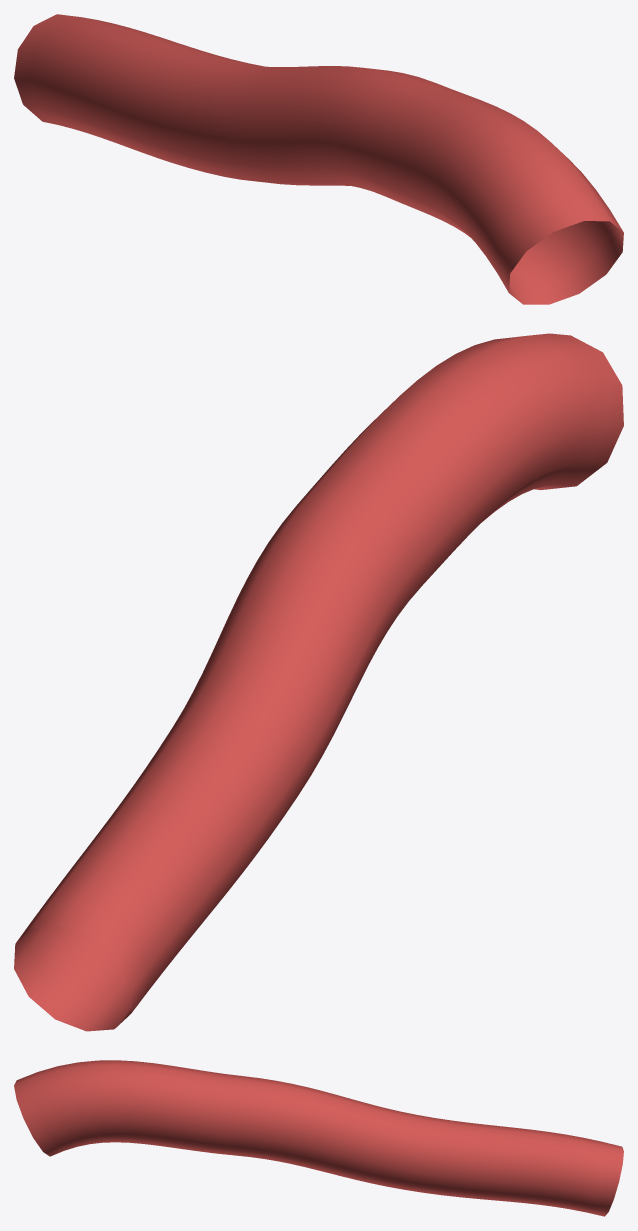
3 renders of one model, top to bottom at view 1: azimuth 30°, elevation 25°; view 2: azimuth 150°, elevation 25°; view 3: azimuth 270°, elevation 25°, orthographic. The views are drawn at different scales.
Visible parts, largest first — view 1: 胸主动脉; view 2: 胸主动脉; view 3: 胸主动脉.
Part boxes in pixels (x1,y1,x2,y2): 胸主动脉: (14,14,623,304); 胸主动脉: (14,333,623,1031); 胸主动脉: (14,1060,623,1216).
Bounding box in the file's own units: 0.0465 × 0.0713 × 0.2363.
